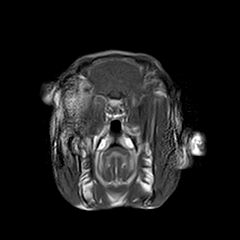Brain: (67, 26, 166, 124)
